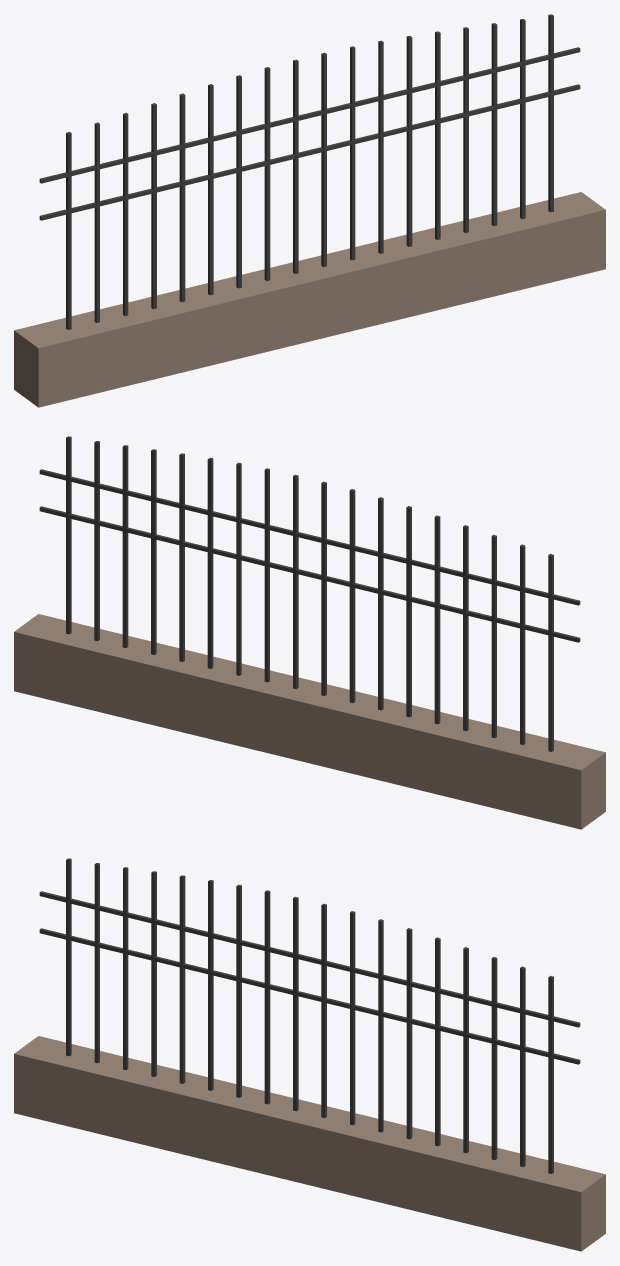
File: SM_FloorProps_Fence_06.fbx
3 renders of one model, top to bottom at view 1: azimuth 30°, elevation 25°; view 2: azimuth 150°, elevation 25°; view 3: azimuth 330°, elevation 25°, orthographic.
Parts seen in each view (by area): view 1: SM_FloorProps_Fence_06; view 2: SM_FloorProps_Fence_06; view 3: SM_FloorProps_Fence_06.
Part boxes in pixels (x1,y1,x2,y2): SM_FloorProps_Fence_06: [14, 14, 605, 407]; SM_FloorProps_Fence_06: [14, 436, 605, 829]; SM_FloorProps_Fence_06: [14, 858, 605, 1251].
Bounding box in the file's own units: 5 × 2.29 × 0.375.
